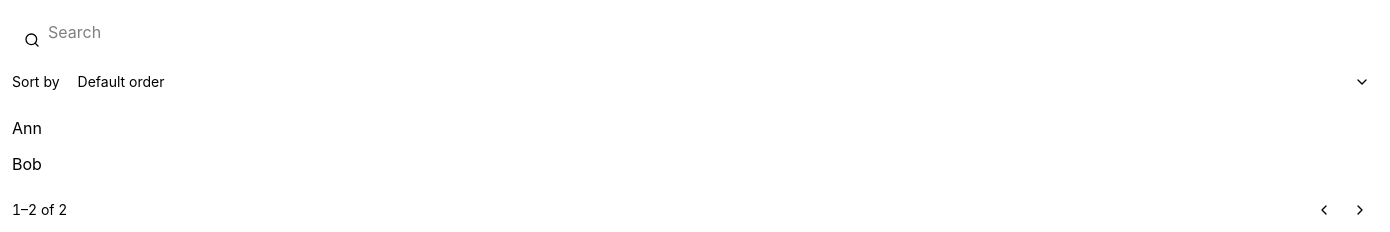
Test case: DataTable on shadcn Table/Select (MK parity A5) › phones sort with a labelled Select that shows the chosen label
What coordinates should you click on to do the following:
click the dropdown named "Sort by"
I would click on:
 (121, 82)
Its box is top-left (68, 64), bottom-right (1378, 100).
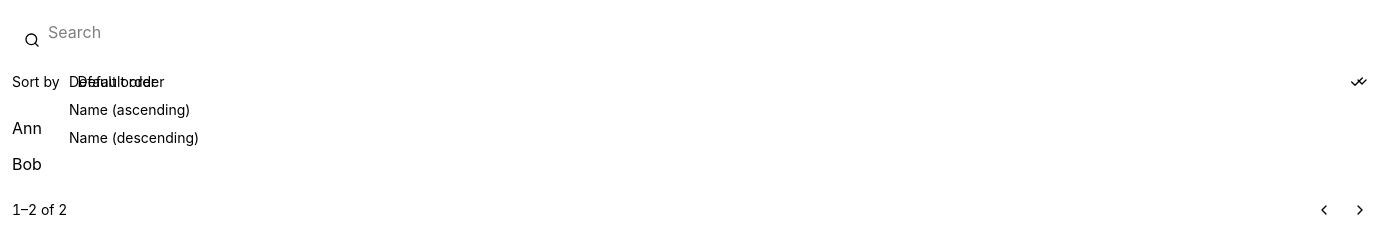
Expected: the option "Name (descending)" is shown
What coordinates should you click on to do the following:
click the option "Name (descending)"
I would click on:
 (134, 138)
Its box is top-left (69, 129), bottom-right (199, 146).
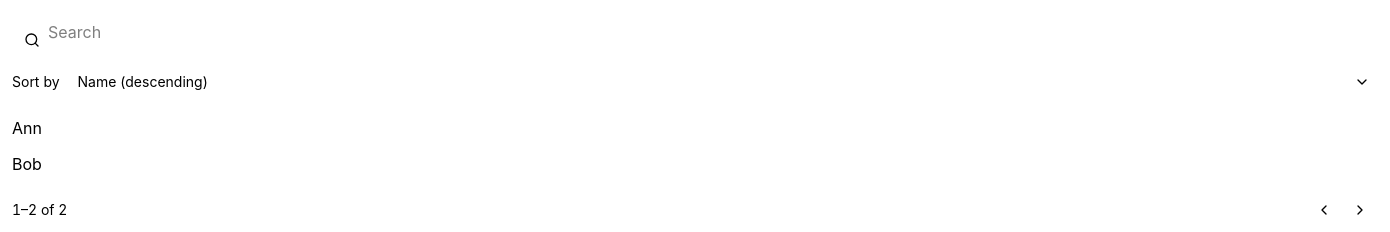
Expected: the list "Default order Name (ascending) Name (descending)" is gone
Expected: the dropdown named "Sort by" reads "Name (descending)"
What coordinates should you click on to do the following:
click the dropdown named "Sort by"
I would click on:
 (143, 82)
Its box is top-left (68, 64), bottom-right (1378, 100).
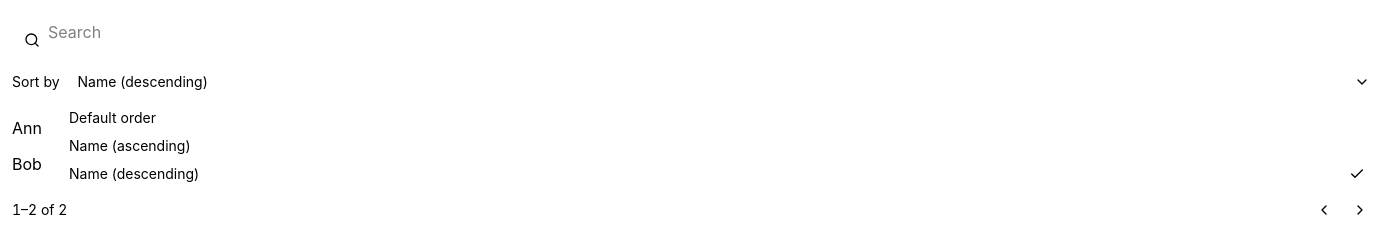
Expected: the option "Default order" is shown
What coordinates should you click on to do the following:
click the option "Default order"
I would click on:
 (112, 118)
Its box is top-left (69, 109), bottom-right (156, 126).
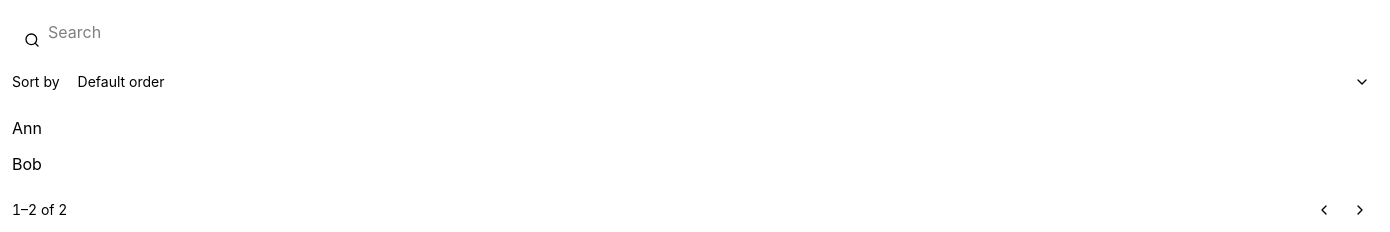
Expected: the list "Default order Name (ascending) Name (descending)" is gone
